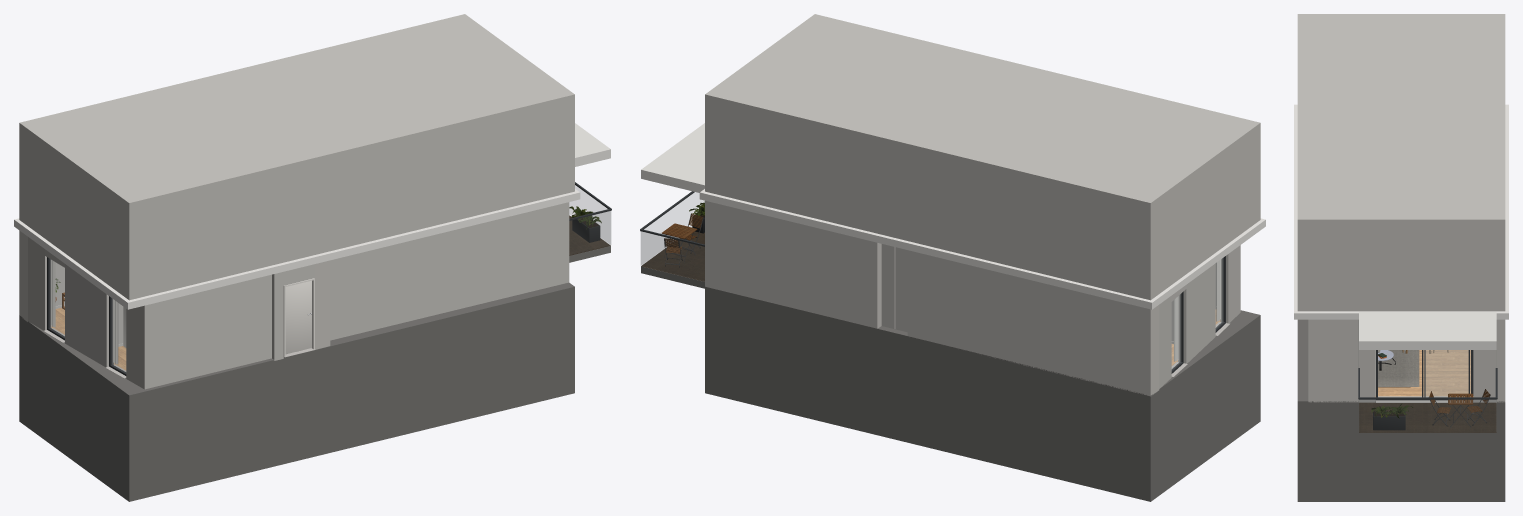
The picture shows the model from 3 angles, left to right: view 1: azimuth 30°, elevation 25°; view 2: azimuth 150°, elevation 25°; view 3: azimuth 270°, elevation 25°; orthographic projection. The views are drawn at different scales.
Parts seen in each view (by area): view 1: c_Enduit de facade, c_Enduit de facade k0.3, a_Enduit de facade, a_Plafond, verre_Verre, verre_Verre k0.3, b_Porte paliere, a_Plafond k0.95, b_Rideau, b_Alu anthracite; view 2: c_Enduit de facade, c_Enduit de facade k0.3, a_Enduit de facade, a_Plafond, verre_Verre k0.3, a_Plafond k0.95, a_Sol de terrasse k0.3, verre_Verre; view 3: c_Enduit de facade, c_Enduit de facade k0.3, a_Enduit de facade, a_Plafond k0.95, verre_Verre k0.3, a_Sol de terrasse k0.3, a_Sol sejour, a_Plafond, verre_Verre, b_Tapis, b_Alu anthracite, b_Alu anthracite k0.9 (+4 smaller).
Part boxes in pixels (x1=…): c_Enduit de facade: x1=19, y1=14, x2=574, y2=300; c_Enduit de facade k0.3: x1=19, y1=246, x2=610, y2=501; a_Enduit de facade: x1=19, y1=202, x2=569, y2=389; a_Plafond: x1=14, y1=189, x2=580, y2=309; verre_Verre: x1=50, y1=259, x2=125, y2=372; verre_Verre k0.3: x1=569, y1=185, x2=610, y2=254; b_Porte paliere: x1=285, y1=280, x2=311, y2=354; a_Plafond k0.95: x1=575, y1=123, x2=610, y2=166; b_Rideau: x1=51, y1=260, x2=118, y2=364; b_Alu anthracite: x1=47, y1=257, x2=126, y2=375; c_Enduit de facade: x1=705, y1=14, x2=1260, y2=300; c_Enduit de facade k0.3: x1=641, y1=266, x2=1260, y2=501; a_Enduit de facade: x1=705, y1=200, x2=1240, y2=396; a_Plafond: x1=699, y1=189, x2=1265, y2=309; verre_Verre k0.3: x1=641, y1=192, x2=704, y2=280; a_Plafond k0.95: x1=641, y1=123, x2=704, y2=192; a_Sol de terrasse k0.3: x1=641, y1=231, x2=704, y2=281; verre_Verre: x1=1172, y1=258, x2=1223, y2=369; c_Enduit de facade: x1=1297, y1=14, x2=1505, y2=311; c_Enduit de facade k0.3: x1=1297, y1=319, x2=1505, y2=501; a_Enduit de facade: x1=1308, y1=319, x2=1505, y2=402; a_Plafond k0.95: x1=1359, y1=311, x2=1496, y2=349; verre_Verre k0.3: x1=1359, y1=400, x2=1496, y2=431; a_Sol de terrasse k0.3: x1=1359, y1=402, x2=1496, y2=432; a_Sol sejour: x1=1375, y1=350, x2=1473, y2=397; a_Plafond: x1=1294, y1=104, x2=1508, y2=319; verre_Verre: x1=1423, y1=350, x2=1470, y2=396; b_Tapis: x1=1378, y1=350, x2=1419, y2=387; b_Alu anthracite: x1=1376, y1=350, x2=1473, y2=400; b_Alu anthracite k0.9: x1=1358, y1=368, x2=1497, y2=399.
Size of the model in its own units: 15.71 by 8.61 by 5.94.
Materials: 82 (40 with a texture image).
